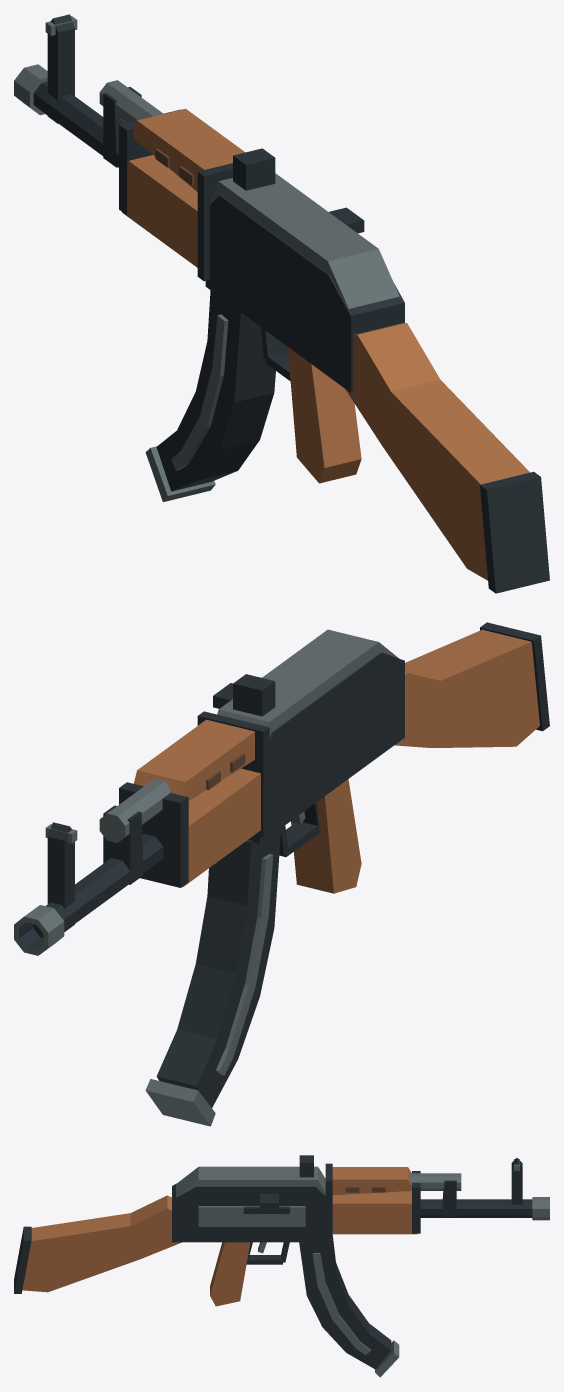
3 renders of one model, top to bottom at view 1: azimuth 30°, elevation 25°; view 2: azimuth 150°, elevation 25°; view 3: azimuth 270°, elevation 25°, orthographic. The views are drawn at different scales.
Parts seen in each view (by area): view 1: Stock_0, Receiver_2, Magazine_11, Dust_cover_3, Stock_butt_1, Pistol_grip_6, Lower_handguard_17, Upper_handguard_18, Barrel_15, Magazine_rib_12, Front_sight_26, Handguard_rear_band_19 (+6 smaller); view 2: Magazine_11, Receiver_2, Stock_0, Dust_cover_3, Lower_handguard_17, Upper_handguard_18, Pistol_grip_6, Handguard_front_band_20, Barrel_15, Magazine_rib_12, Front_sight_26, Gas_tube_16 (+7 smaller); view 3: Stock_0, Receiver_2, Magazine_11, Lower_handguard_17, Dust_cover_3, Barrel_15, Upper_handguard_18, Pistol_grip_6, Receiver_side_4, Magazine_rib_13, Gas_tube_16, Stock_butt_1 (+10 smaller).
Part boxes in pixels (x1,y1,x2,y2): Stock_0: (345,323,529,580); Receiver_2: (205,195,404,392); Magazine_11: (156,290,275,491); Dust_cover_3: (211,173,399,308); Stock_butt_1: (480,471,549,593); Pistol_grip_6: (288,347,361,483); Lower_handguard_17: (122,155,197,267); Upper_handguard_18: (133,108,245,191); Barrel_15: (33,81,118,167); Magazine_rib_12: (171,314,228,470); Front_sight_26: (47,14,74,123); Handguard_rear_band_19: (197,163,232,281); Magazine_11: (156,828,280,1107); Receiver_2: (248,652,404,843); Stock_0: (395,629,539,747); Dust_cover_3: (217,629,398,736); Lower_handguard_17: (183,768,260,886); Upper_handguard_18: (133,719,254,800); Pistol_grip_6: (291,779,361,893); Handguard_front_band_20: (119,782,188,887); Barrel_15: (33,834,163,937); Magazine_rib_12: (216,854,273,1075); Front_sight_26: (47,822,74,931); Gas_tube_16: (99,778,170,842); Stock_0: (22,1195,181,1292); Receiver_2: (172,1183,329,1242); Magazine_11: (299,1236,391,1369); Lower_handguard_17: (332,1191,417,1234); Dust_cover_3: (176,1166,325,1197); Barrel_15: (420,1199,532,1217); Upper_handguard_18: (332,1167,411,1195); Pistol_grip_6: (210,1242,250,1306); Receiver_side_4: (198,1206,305,1226); Magazine_rib_13: (312,1253,370,1354); Gas_tube_16: (409,1173,461,1190); Stock_butt_1: (14,1226,31,1293).
Size of the model in its own units: 0.129 by 0.481 by 1.1.
